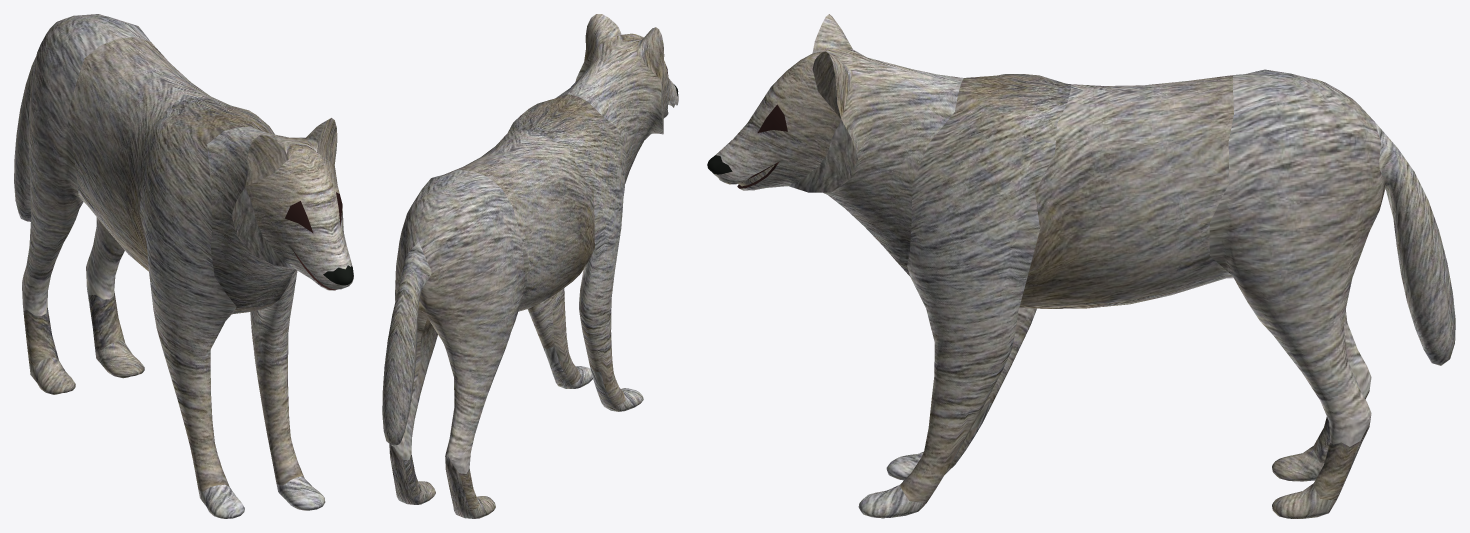
File: creature-wolf.glb
The picture shows the model from 3 angles, left to right: view 1: azimuth 30°, elevation 25°; view 2: azimuth 150°, elevation 25°; view 3: azimuth 270°, elevation 25°; orthographic projection. The views are drawn at different scales.
Parts seen in each view (by area): view 1: creature-wolf; view 2: creature-wolf; view 3: creature-wolf.
Boxes of the visible parts, box(x1,y1,x2,y2) form: creature-wolf: box(14, 14, 353, 518); creature-wolf: box(382, 14, 678, 518); creature-wolf: box(707, 14, 1455, 518).
Size of the model in its own units: 0.3568 by 1.09 by 1.6.
Materials: 5 (2 with a texture image).
